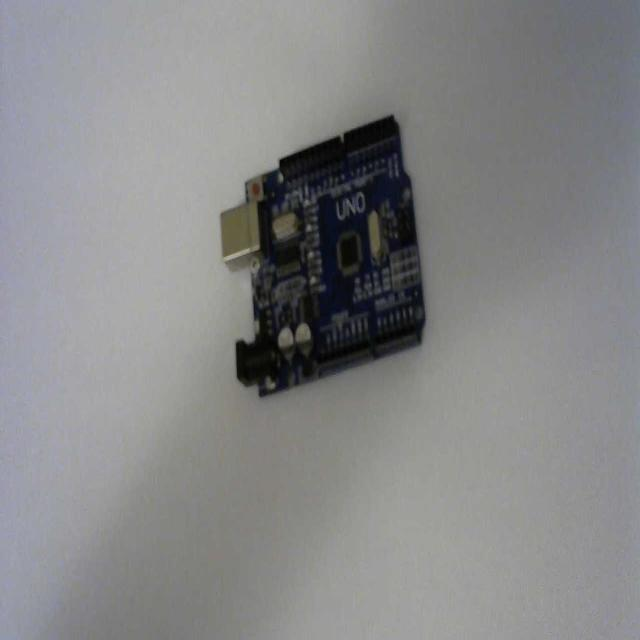arduino: (220, 112, 426, 405)
